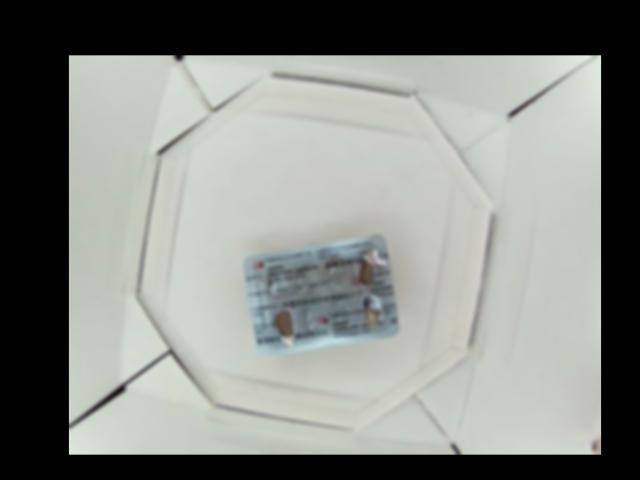Medicine: (240, 232, 401, 356)
